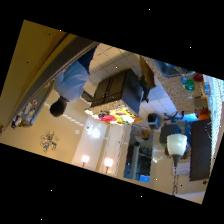person: (49, 44, 97, 116), (134, 127, 149, 145)
